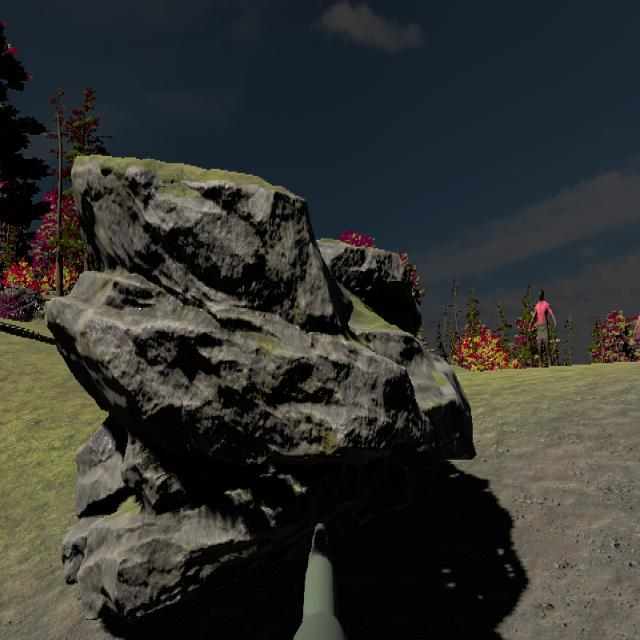Human: (528, 288, 556, 370)
